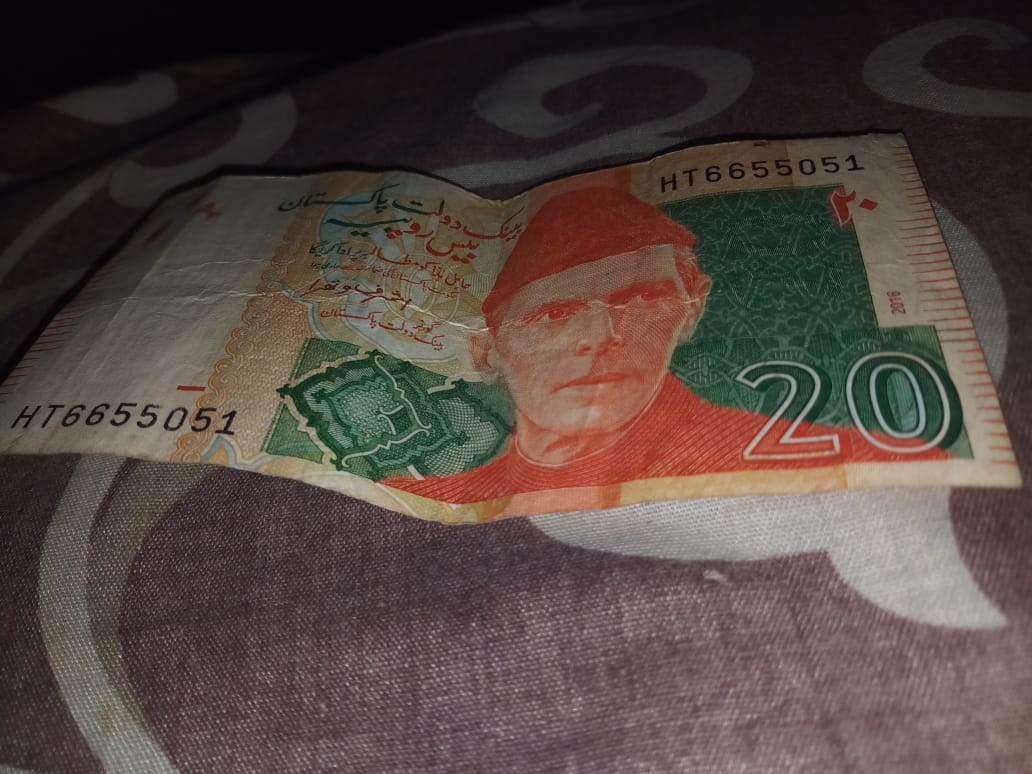20 rupee: (1, 147, 1013, 511)
